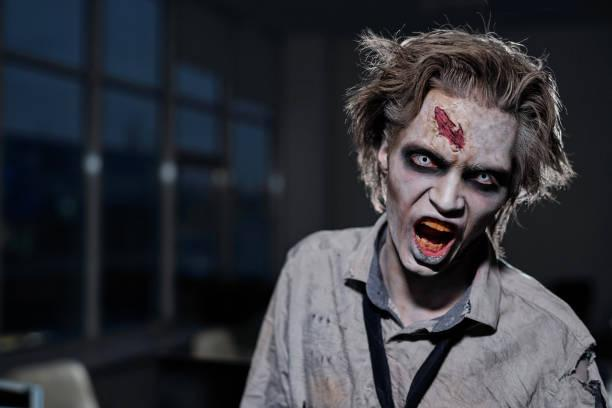Zombie: (379, 76, 498, 288)
